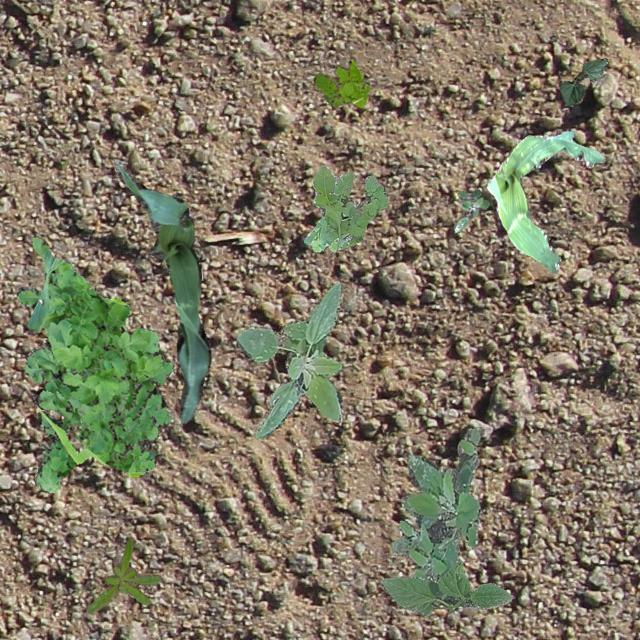crop: (113, 158, 210, 422), (486, 130, 604, 272), (382, 560, 512, 614), (558, 56, 608, 106)
weed: (16, 236, 172, 492), (235, 281, 342, 438), (390, 426, 482, 580), (303, 162, 387, 250), (86, 536, 160, 612), (312, 58, 368, 105), (454, 188, 488, 232)
